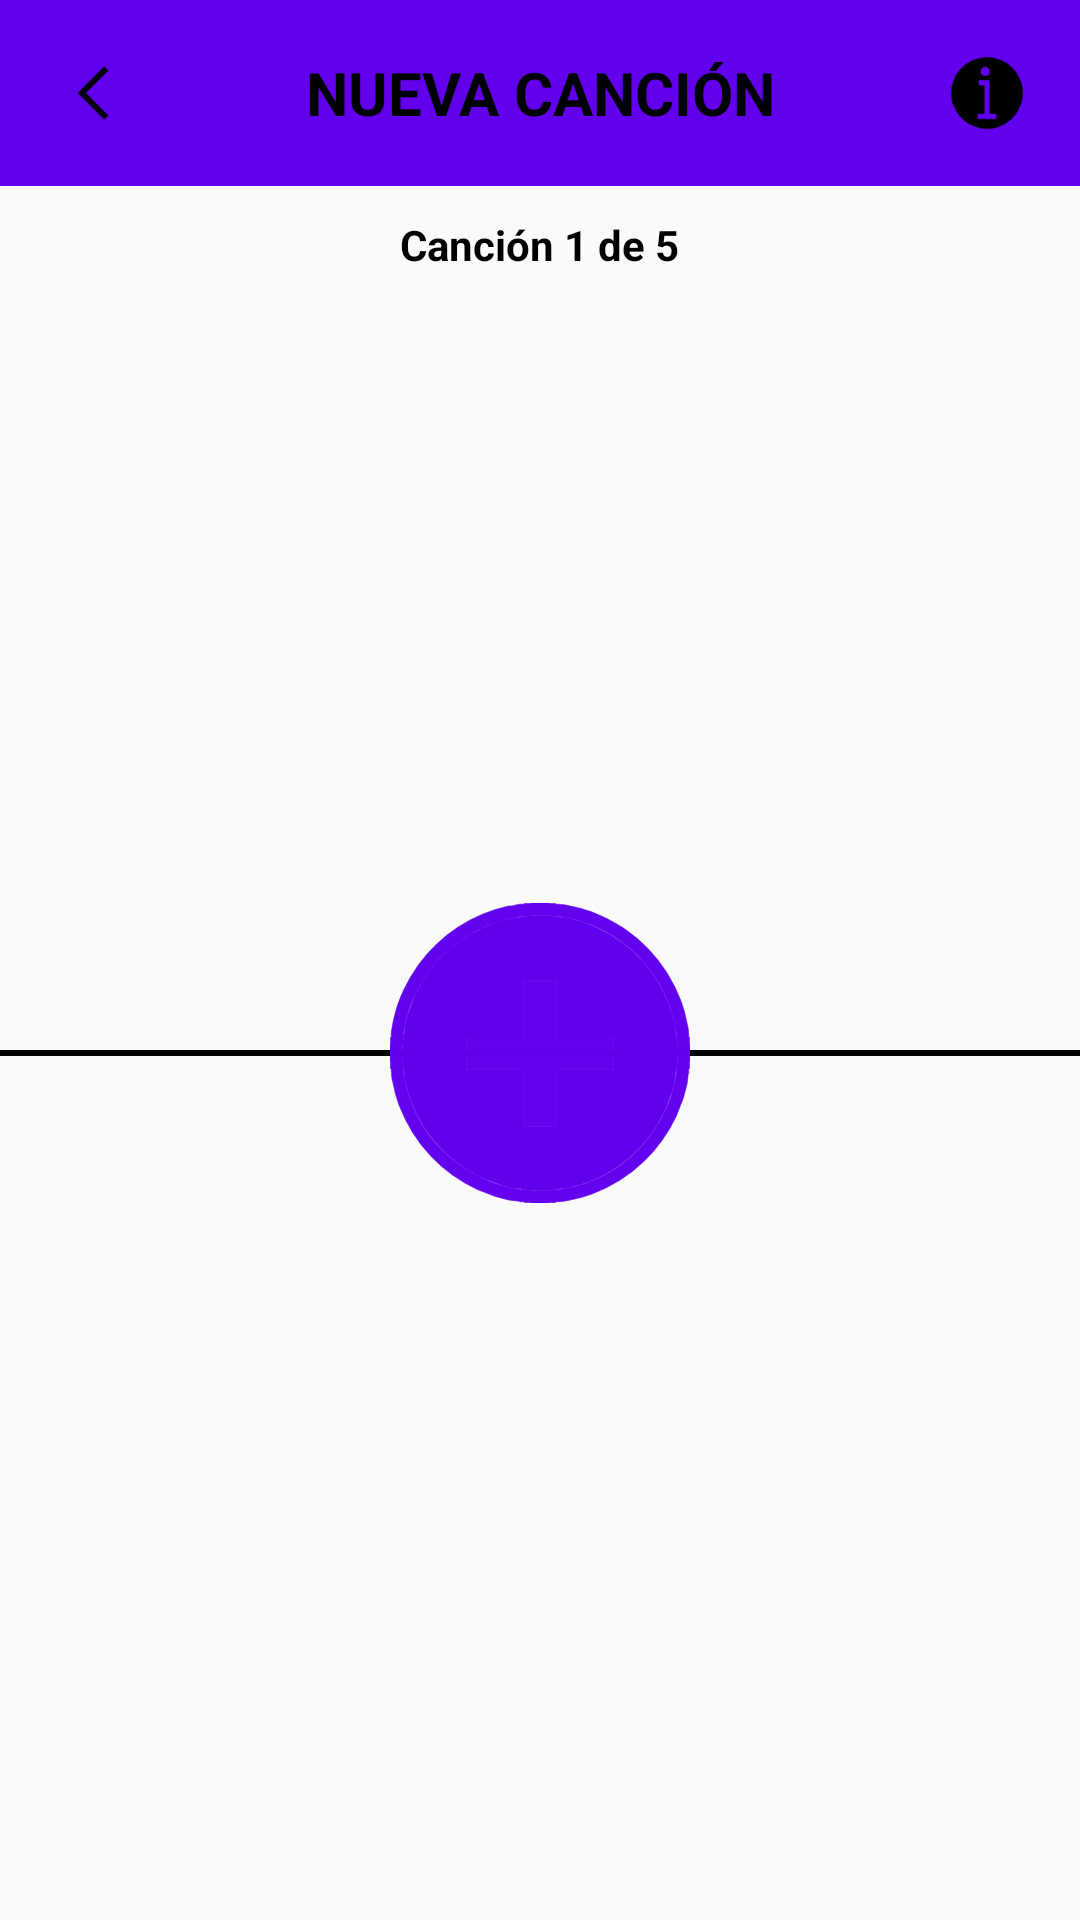

Icon click points for this 1080x1920 phone screenshot, format (x,y):
Información: (987,93)
Volver: (93,93)
